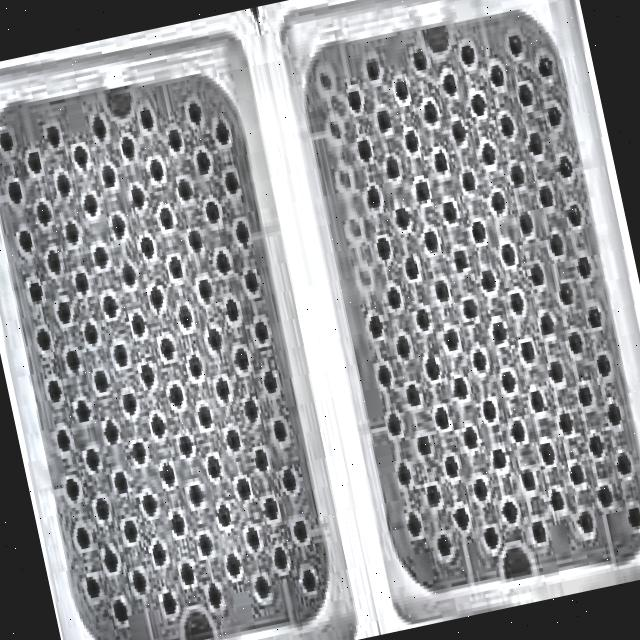vial: (154, 198, 179, 234), (210, 112, 232, 151), (41, 242, 65, 277), (69, 140, 93, 175), (175, 295, 196, 334), (269, 414, 291, 451), (194, 269, 215, 307), (137, 97, 158, 135), (145, 278, 167, 314), (145, 150, 167, 186), (118, 254, 139, 291), (193, 142, 214, 179), (23, 272, 45, 307), (111, 336, 132, 372), (71, 263, 92, 299), (42, 115, 63, 151), (118, 130, 139, 166), (259, 363, 281, 397), (34, 195, 56, 229), (54, 165, 74, 202), (277, 464, 300, 496), (126, 179, 149, 211), (2, 174, 25, 206), (118, 385, 140, 418), (221, 294, 243, 327), (241, 391, 262, 425), (136, 358, 157, 392), (165, 124, 186, 158), (183, 95, 204, 129), (175, 428, 197, 460), (241, 266, 263, 298), (23, 145, 45, 177), (128, 305, 148, 340), (202, 195, 223, 228), (107, 208, 128, 241), (90, 109, 109, 145), (99, 288, 119, 322), (204, 451, 225, 483), (212, 246, 233, 278), (62, 217, 83, 249), (214, 496, 233, 531), (158, 458, 178, 491), (212, 372, 232, 405), (195, 401, 216, 432), (62, 345, 83, 376), (137, 231, 158, 262), (233, 215, 252, 249), (252, 313, 271, 347), (110, 465, 130, 497), (128, 436, 148, 468), (565, 323, 583, 358), (529, 515, 548, 548), (167, 378, 186, 411), (99, 160, 118, 193), (194, 527, 214, 558), (185, 477, 205, 508), (222, 166, 242, 197), (174, 174, 194, 205), (166, 251, 185, 283), (54, 425, 74, 455), (234, 473, 254, 503), (15, 225, 35, 255), (356, 134, 373, 169), (300, 561, 317, 596), (346, 83, 364, 116), (577, 506, 595, 539), (178, 558, 196, 591), (225, 421, 243, 454), (507, 157, 526, 188), (141, 490, 160, 521), (205, 322, 224, 353), (545, 487, 565, 516), (272, 540, 289, 574), (470, 89, 488, 121), (364, 181, 382, 213), (83, 443, 101, 475), (92, 492, 111, 522), (233, 345, 252, 375), (185, 225, 205, 253), (470, 215, 488, 246), (566, 199, 584, 230), (102, 415, 120, 446), (252, 443, 270, 474), (185, 355, 203, 386), (148, 411, 167, 440), (403, 252, 420, 284), (366, 312, 384, 342), (385, 281, 403, 311), (45, 374, 63, 404), (157, 333, 177, 360), (441, 68, 458, 99), (432, 146, 449, 177), (489, 185, 506, 216), (575, 250, 592, 281), (244, 522, 261, 553), (92, 240, 109, 271), (547, 355, 565, 384), (586, 303, 604, 332), (291, 517, 309, 546), (168, 511, 187, 538), (111, 595, 130, 622), (92, 367, 111, 394), (81, 190, 100, 217), (452, 245, 468, 277), (0, 124, 16, 156), (383, 151, 400, 181), (517, 209, 534, 239), (499, 240, 516, 270), (442, 452, 460, 480), (480, 268, 498, 296), (262, 495, 280, 523), (207, 580, 223, 611), (385, 411, 402, 440), (441, 198, 458, 227), (74, 395, 91, 424), (594, 351, 612, 378), (436, 530, 452, 560), (502, 496, 518, 526), (421, 97, 438, 125), (491, 317, 508, 345), (414, 429, 431, 457), (82, 319, 99, 347), (490, 446, 508, 472), (396, 459, 411, 490), (424, 354, 440, 383), (462, 421, 478, 450), (63, 473, 79, 502), (460, 168, 477, 195), (406, 381, 423, 408), (422, 225, 439, 252), (55, 298, 72, 325), (404, 125, 419, 155), (499, 110, 515, 138), (481, 140, 497, 168), (394, 74, 410, 102), (395, 333, 411, 361), (405, 511, 421, 539), (225, 552, 241, 580), (160, 589, 176, 617), (103, 546, 119, 574), (516, 81, 533, 107), (528, 385, 545, 411), (376, 233, 390, 264), (450, 119, 466, 146), (414, 178, 430, 205), (433, 405, 449, 432), (538, 307, 554, 334), (558, 281, 574, 308), (547, 232, 563, 259), (130, 568, 146, 595), (558, 408, 575, 433), (393, 204, 410, 229), (454, 502, 468, 532), (538, 185, 553, 213), (124, 513, 138, 543), (151, 539, 166, 567), (500, 368, 516, 394), (471, 347, 487, 373), (520, 467, 536, 493), (568, 461, 584, 487), (461, 295, 477, 321), (76, 524, 91, 551), (36, 326, 51, 353), (364, 58, 380, 83), (452, 376, 468, 401), (587, 431, 603, 456), (519, 337, 535, 362), (86, 576, 102, 601), (490, 61, 505, 87), (460, 41, 475, 67), (482, 399, 497, 425), (510, 418, 525, 444), (425, 482, 440, 508), (472, 475, 487, 501), (540, 439, 555, 465), (576, 382, 592, 406), (377, 106, 391, 133), (255, 574, 269, 601), (527, 133, 543, 156), (529, 264, 545, 287), (616, 452, 630, 478), (510, 289, 524, 315), (444, 327, 459, 351), (377, 363, 392, 387), (483, 525, 498, 549), (598, 485, 613, 509), (546, 104, 562, 126), (412, 50, 428, 72), (627, 504, 640, 531), (508, 32, 522, 57), (558, 154, 572, 178), (436, 279, 450, 302), (607, 403, 620, 427), (539, 56, 553, 78), (416, 309, 428, 332)
